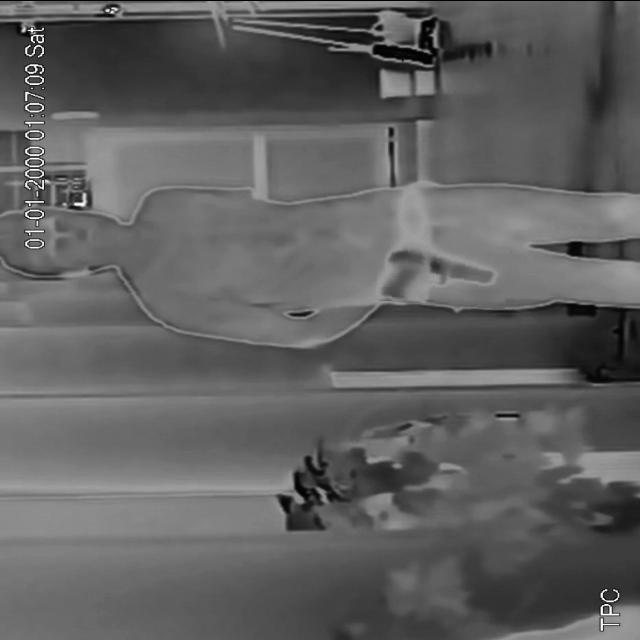Weapon: (377, 242, 509, 306)
